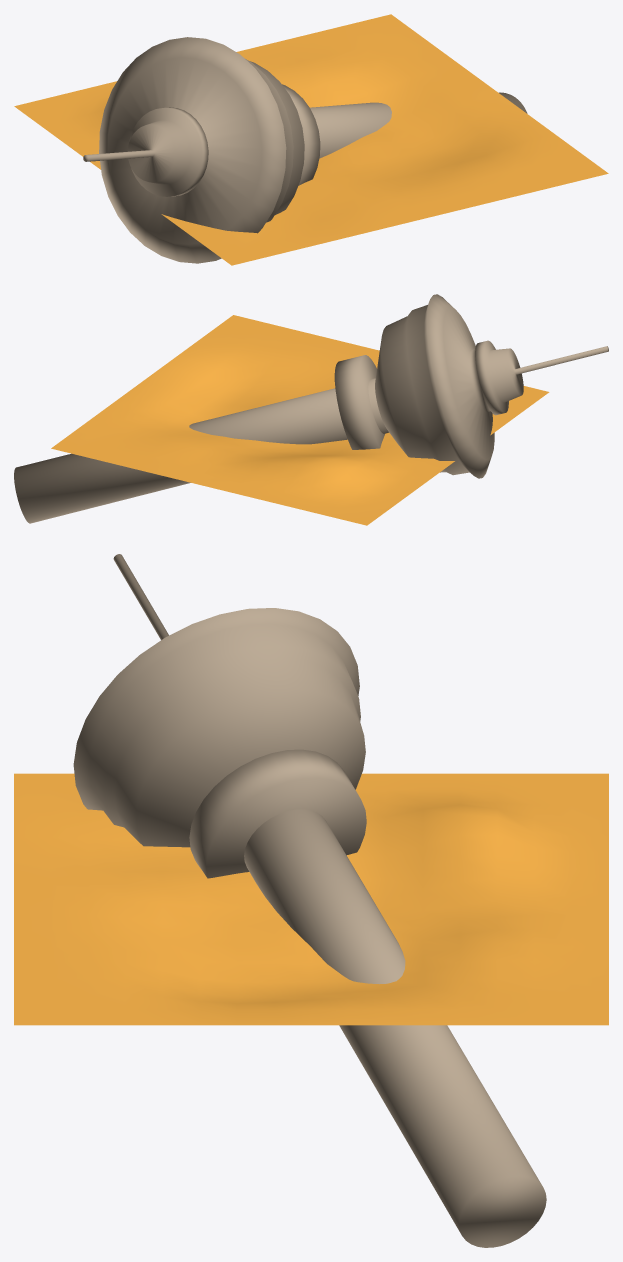
The model's file is neula.fbx.
3 renders of one model, top to bottom at view 1: azimuth 30°, elevation 25°; view 2: azimuth 150°, elevation 25°; view 3: azimuth 270°, elevation 25°, orthographic. The views are drawn at different scales.
Parts seen in each view (by area): view 1: neula.001; view 2: neula.001; view 3: neula.001.
Part boxes in pixels (box(x1,y1,x2,y2)): neula.001: box(14, 14, 608, 265); neula.001: box(14, 294, 608, 525); neula.001: box(14, 554, 608, 1247).
Bounding box in the file's own units: 3.04 × 1.43 × 2.
